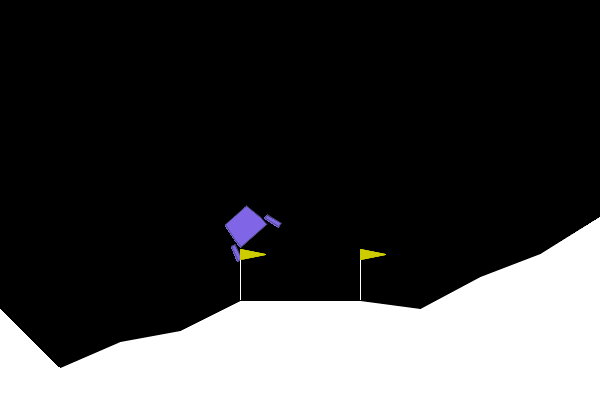lander: (212, 194, 283, 264)
